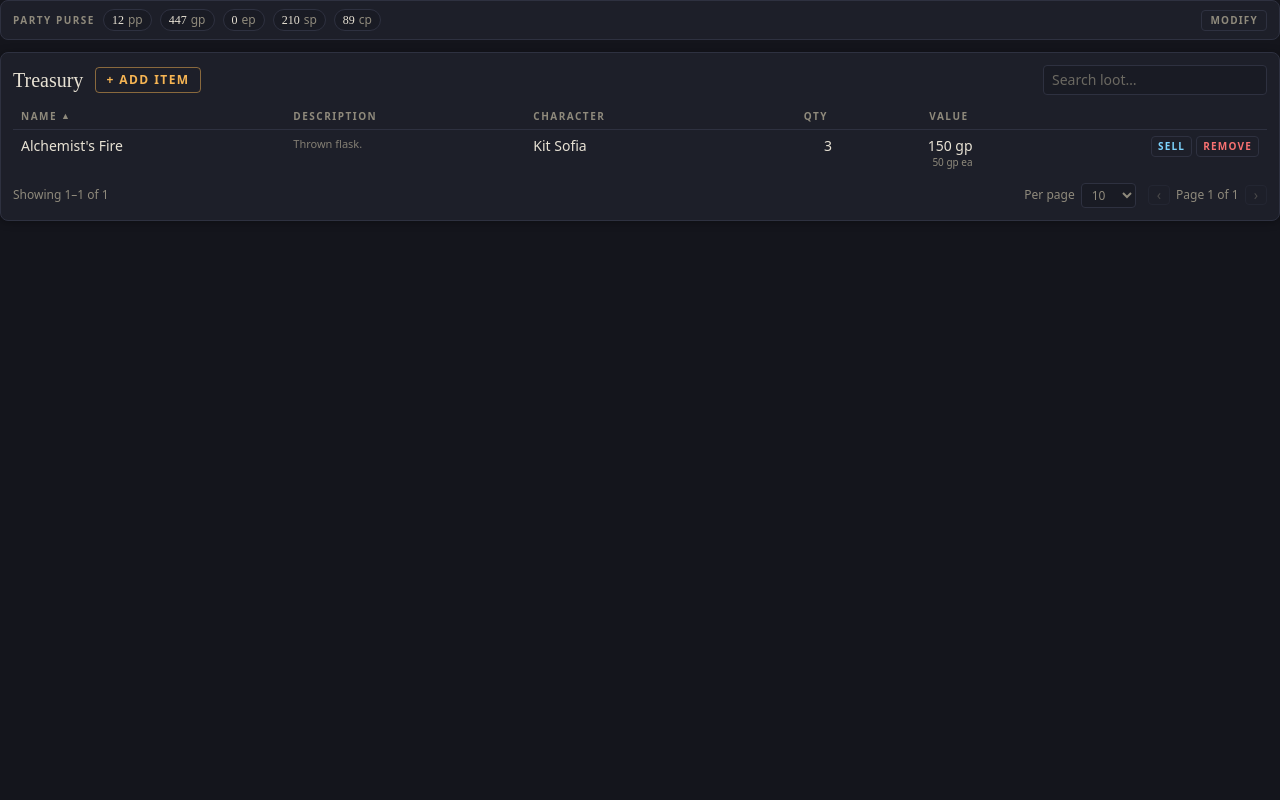
Test: TreasuryPanel — add modal › starts invalid (blank name/description/holder) with the confirm disabled
Step 1. Click the button with test id "loot-add" → (148, 80), box [95,67,201,93]
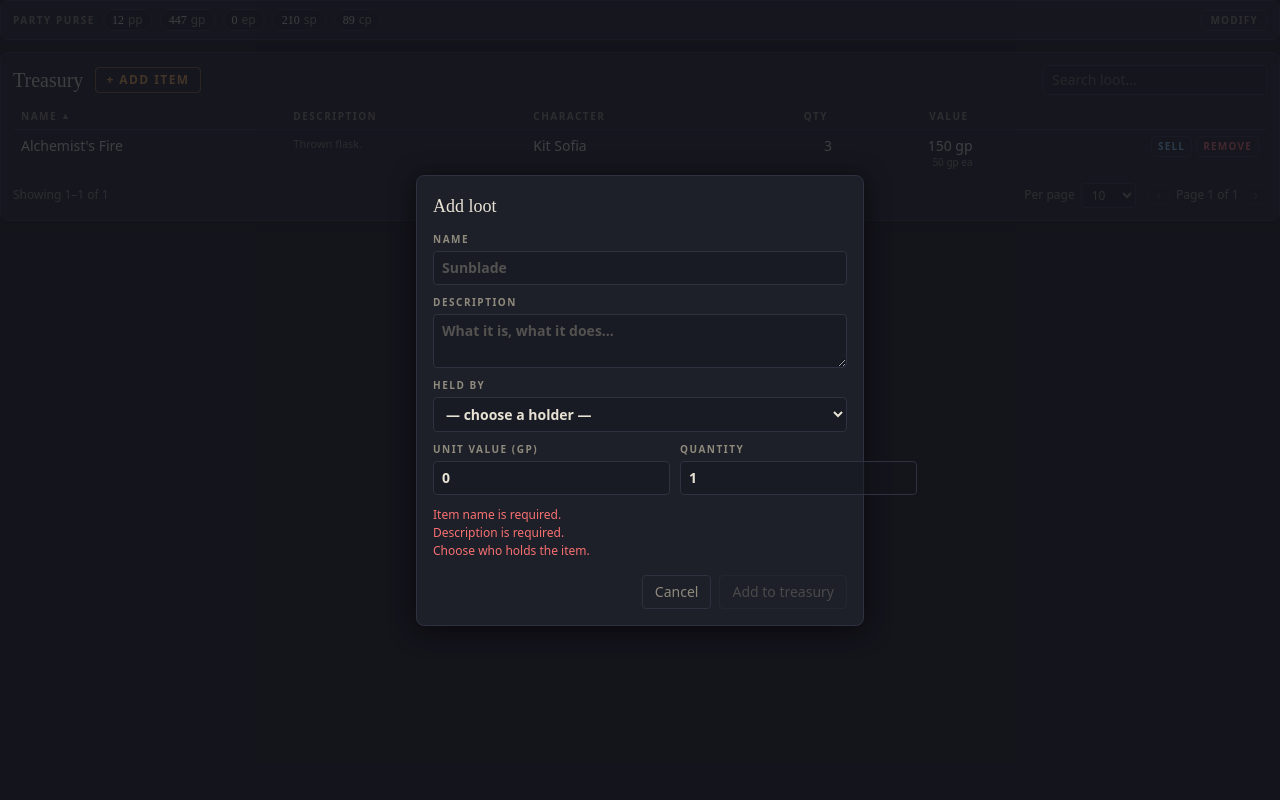
Expected: the dialog with test id "modal-add" is shown, [416,174,864,626]
Expected: the list with test id "add-errors" shows "Item name is required.", [433,506,561,522]
Expected: the list with test id "add-errors" shows "Description is required.", [433,524,564,540]
